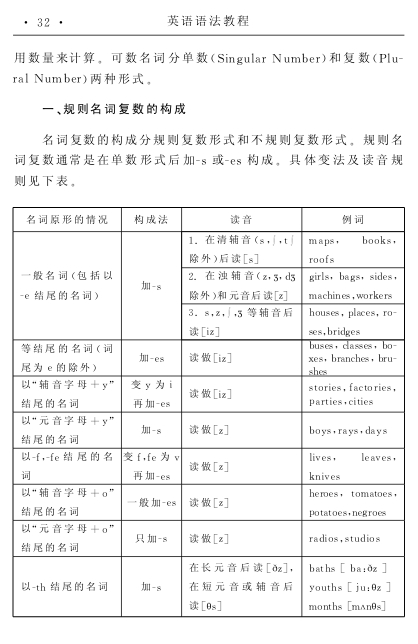table: (13, 206, 405, 617)
